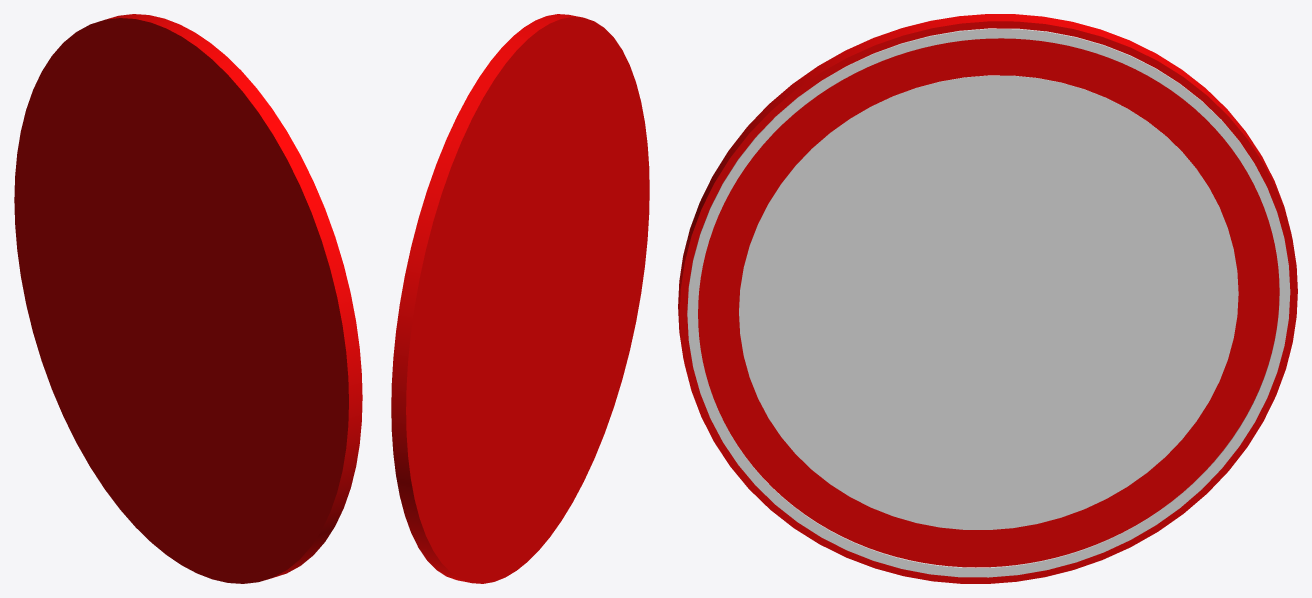
Rendered from 禁止通行.gltf.
The picture shows the model from 3 angles, left to right: view 1: azimuth 30°, elevation 25°; view 2: azimuth 150°, elevation 25°; view 3: azimuth 270°, elevation 25°; orthographic projection. The views are drawn at different scales.
Parts seen in each view (by area): view 1: 禁止通行; view 2: 禁止通行; view 3: 禁止通行.
Boxes of the visible parts, x1,y1,x2,y2 form: 禁止通行: (14, 14, 362, 583); 禁止通行: (391, 14, 649, 583); 禁止通行: (678, 14, 1297, 583).
Size of the model in its own units: 0.09 by 0.7737 by 0.7727.
